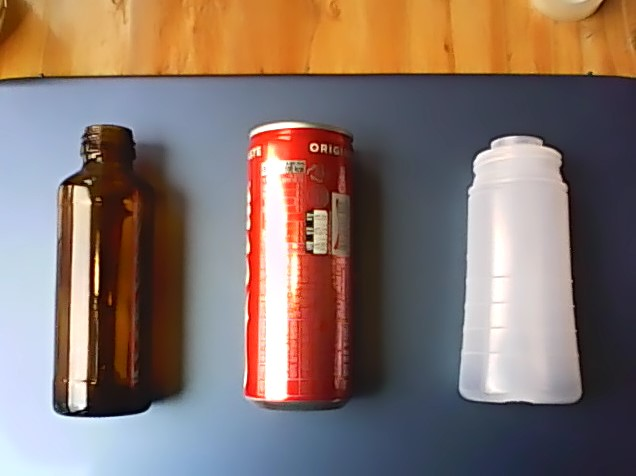Can: (239, 114, 357, 415)
Glass: (47, 125, 158, 420)
Plastic: (454, 133, 587, 409)
